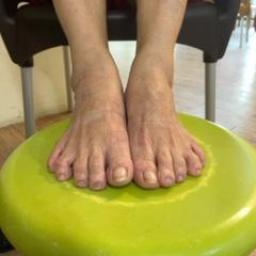Front View -Both Feet-: (39, 29, 222, 210)
